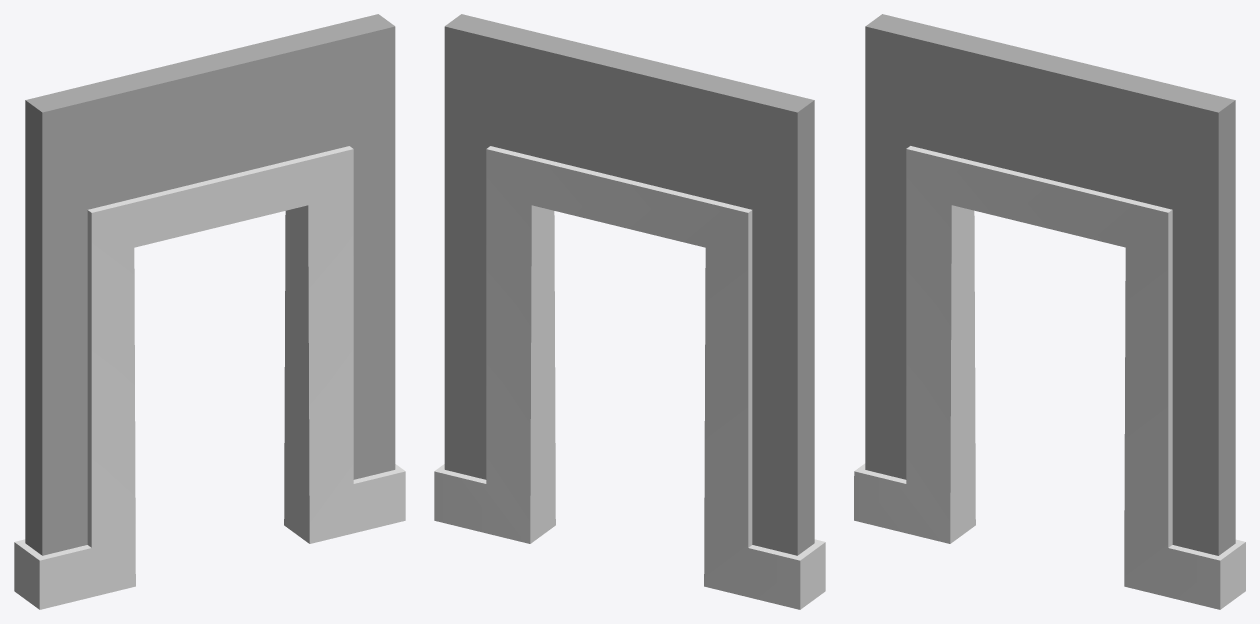
The model's file is Door.fbx.
The picture shows the model from 3 angles, left to right: view 1: azimuth 30°, elevation 25°; view 2: azimuth 150°, elevation 25°; view 3: azimuth 330°, elevation 25°; orthographic projection.
Parts seen in each view (by area): view 1: Door; view 2: Door; view 3: Door.
Boxes of the visible parts, x1,y1,x2,y2 form: Door: (14,14,405,609); Door: (434,14,825,609); Door: (854,14,1245,609).
Size of the model in its own units: 3.11 by 4 by 0.3764.
